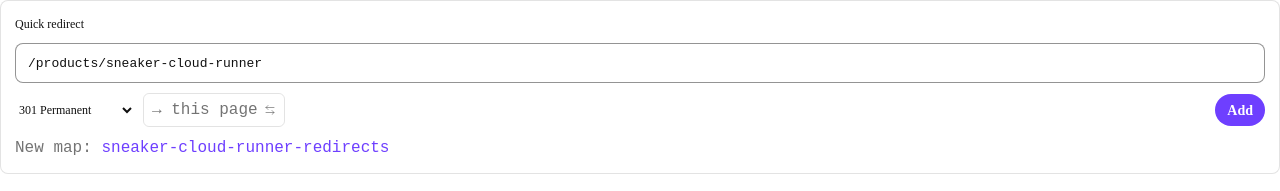
Test: QuickRedirectForm — direction toggle (PRD-002 polish) › RED-QF-18: clicking the toggle flips direction label to 'this page →'
Click the button with aria-label "redirecting to this page": click(214, 110) [143,93,285,127]
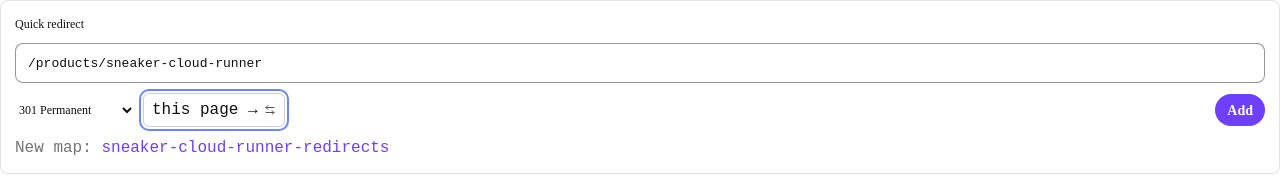
Expected: the button with aria-label "redirecting from this page" reads "this page →", [143,93,285,127]
